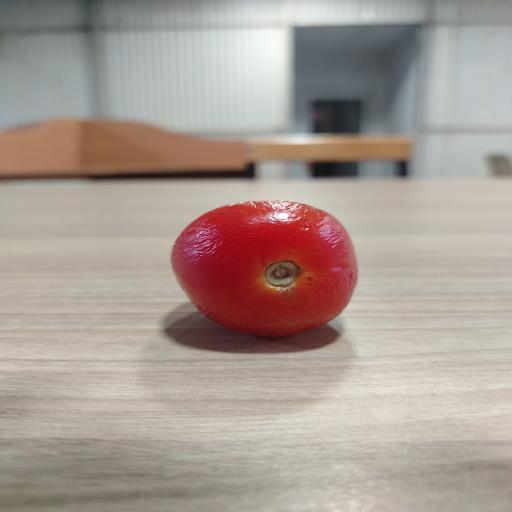spoiled: (171, 201, 357, 336)
